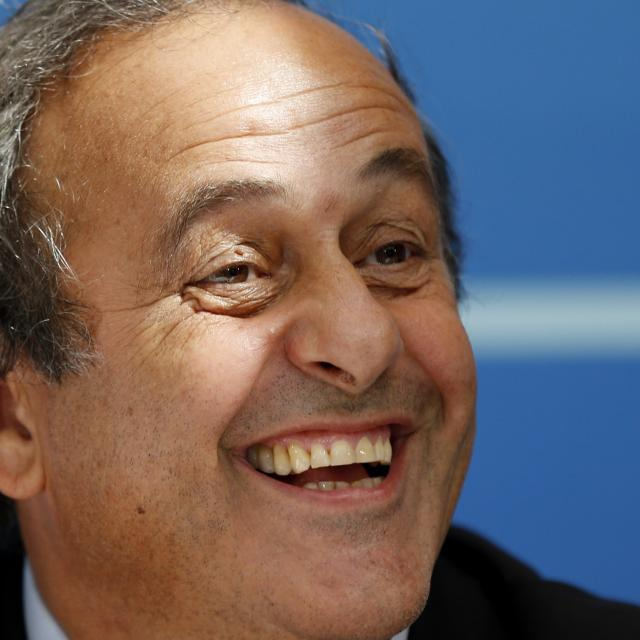Normal: (2, 0, 479, 640)
